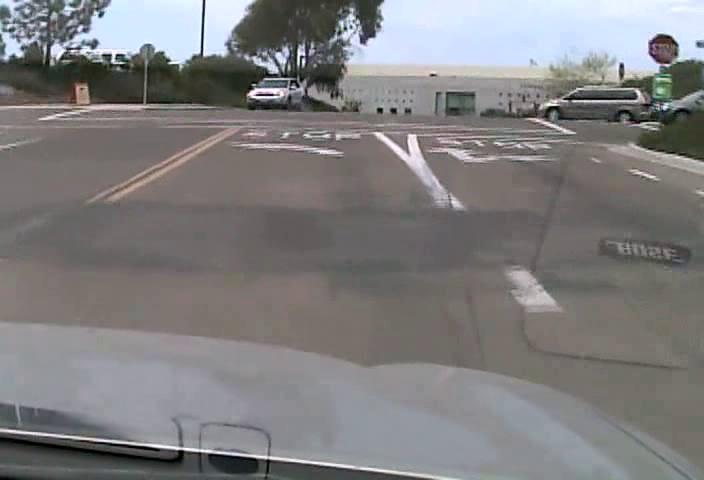stop: (648, 32, 679, 65)
